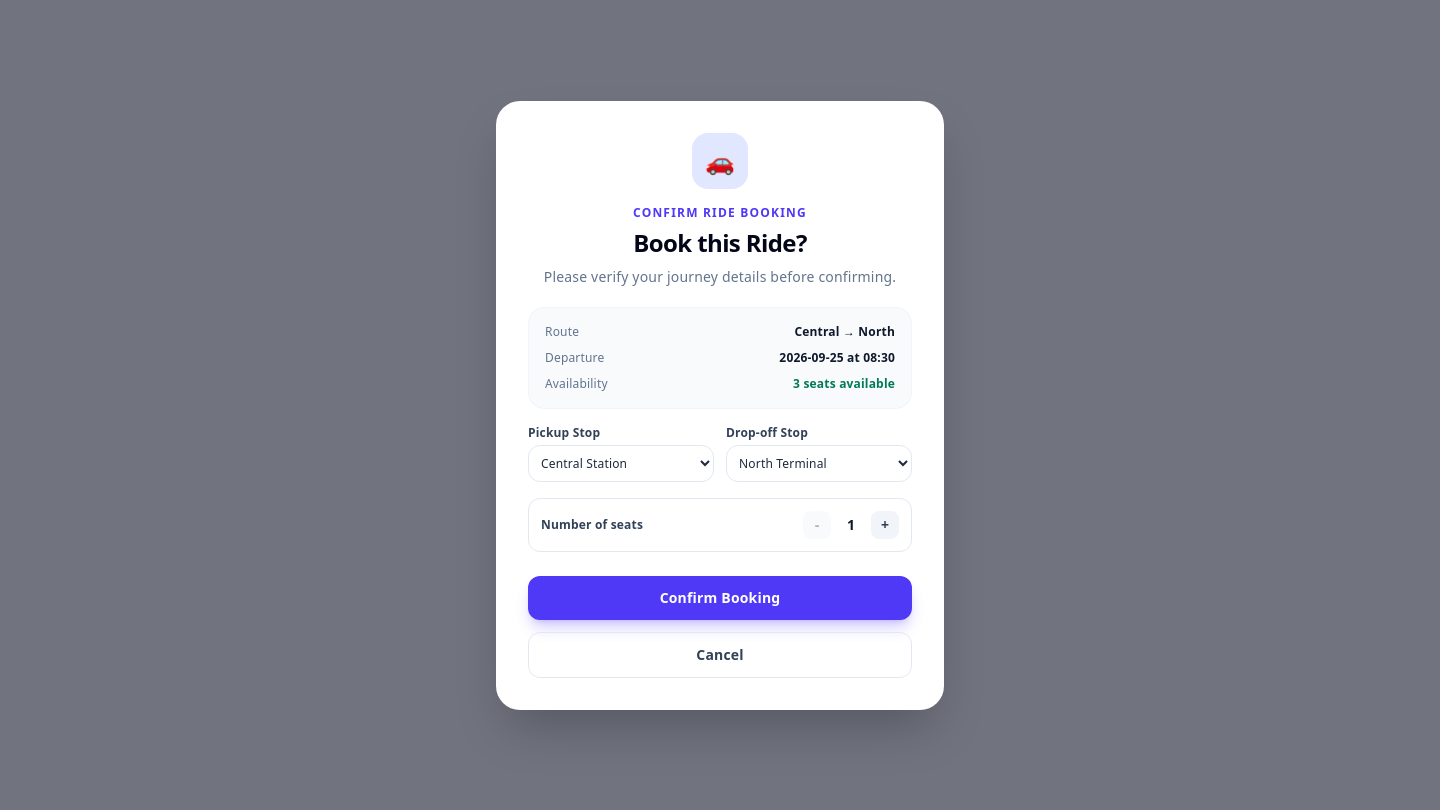
Test: BookRideConfirmationModal › submits booking and displays confirmation screen
Click the button "Confirm Booking".
click(720, 598)  # box [528,576,912,620]
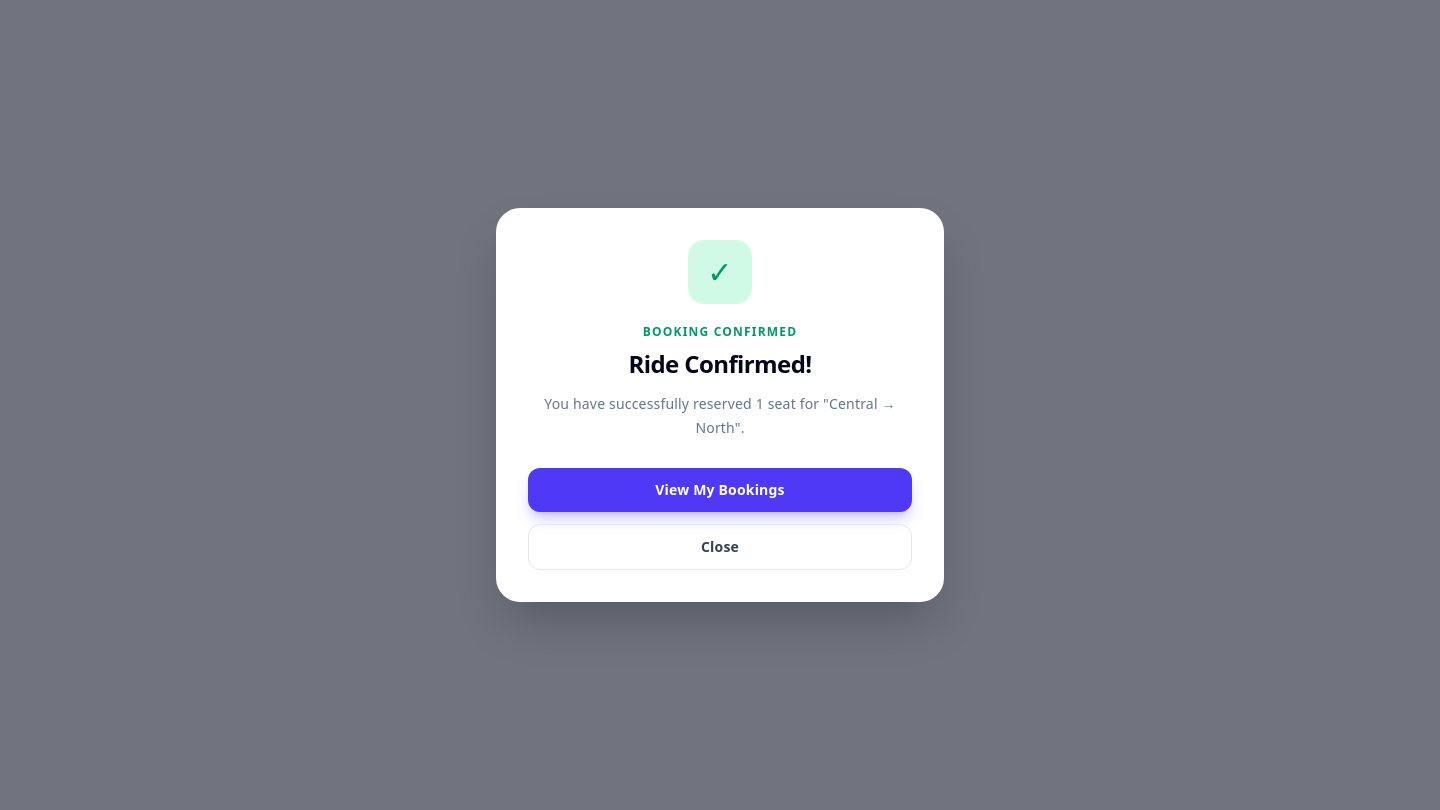
Result: the heading "Ride Confirmed!" is shown at [628,347,812,380]
Result: the link "View My Bookings" is shown at [528,468,912,512]
